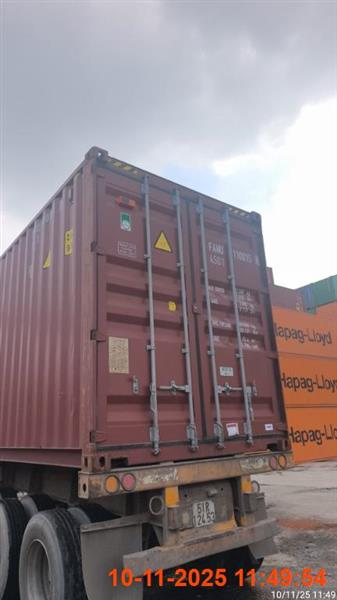hole: (0, 147, 295, 599)
